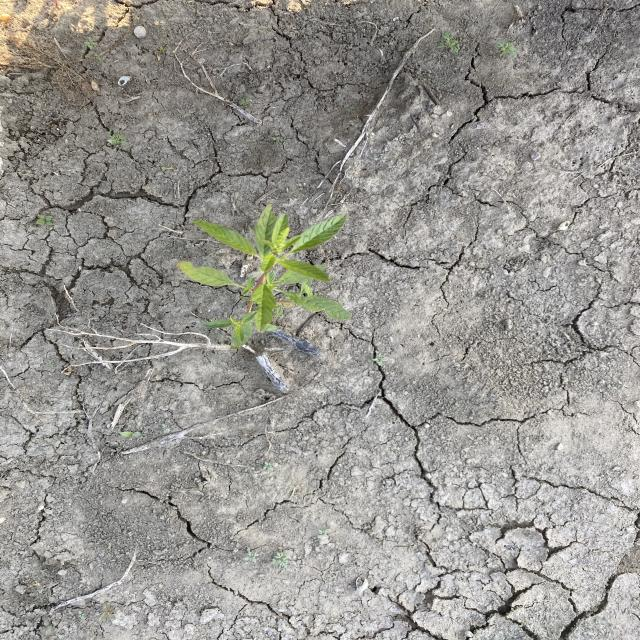Waterhemp: (174, 201, 356, 350)
